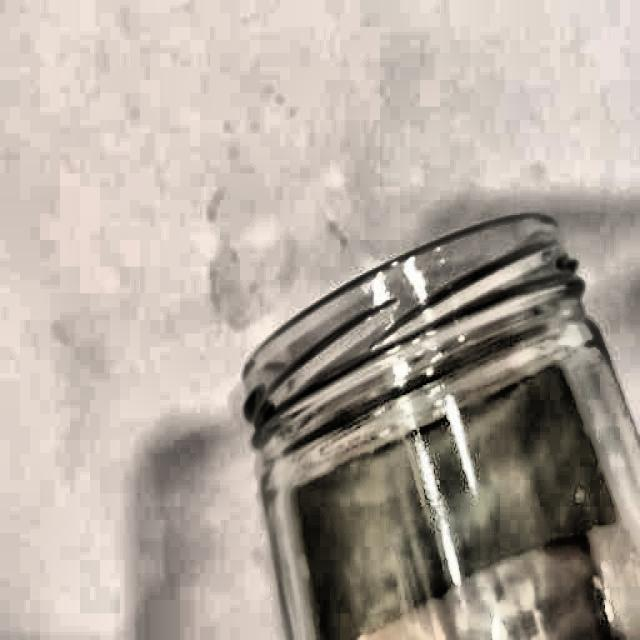glass: (241, 204, 640, 640)
